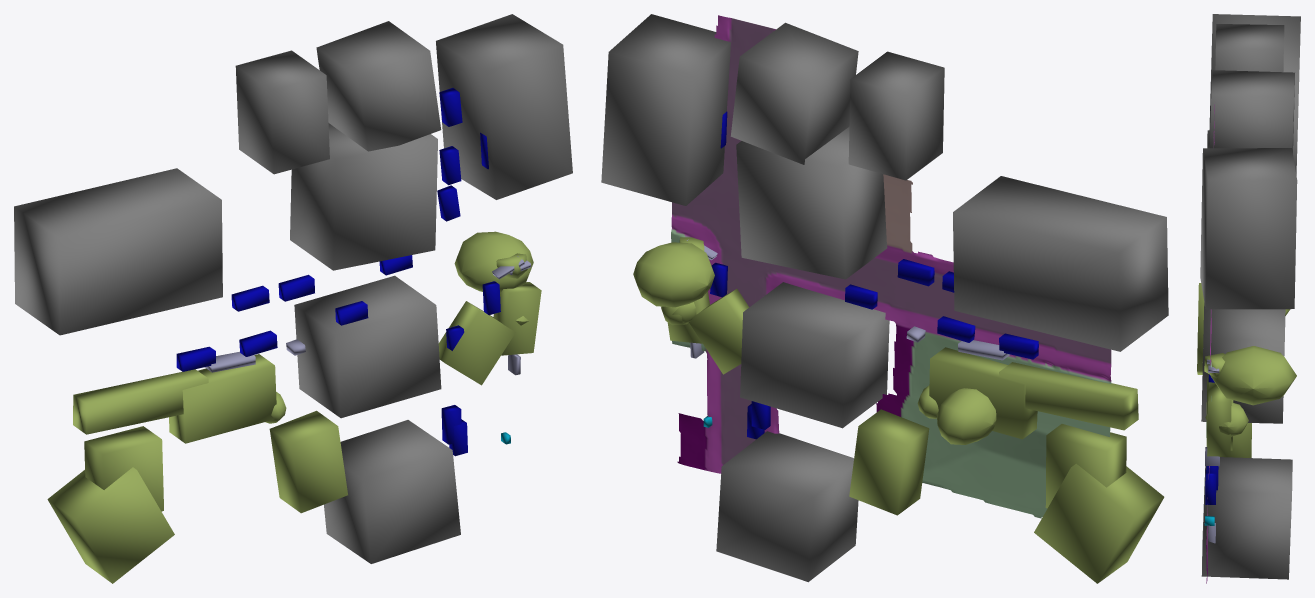
The picture shows the model from 3 angles, left to right: view 1: azimuth 30°, elevation 25°; view 2: azimuth 150°, elevation 25°; view 3: azimuth 270°, elevation 25°; orthographic projection. The views are drawn at different scales.
Bounding box in the file's own units: 76.05 × 70.77 × 13.89.
